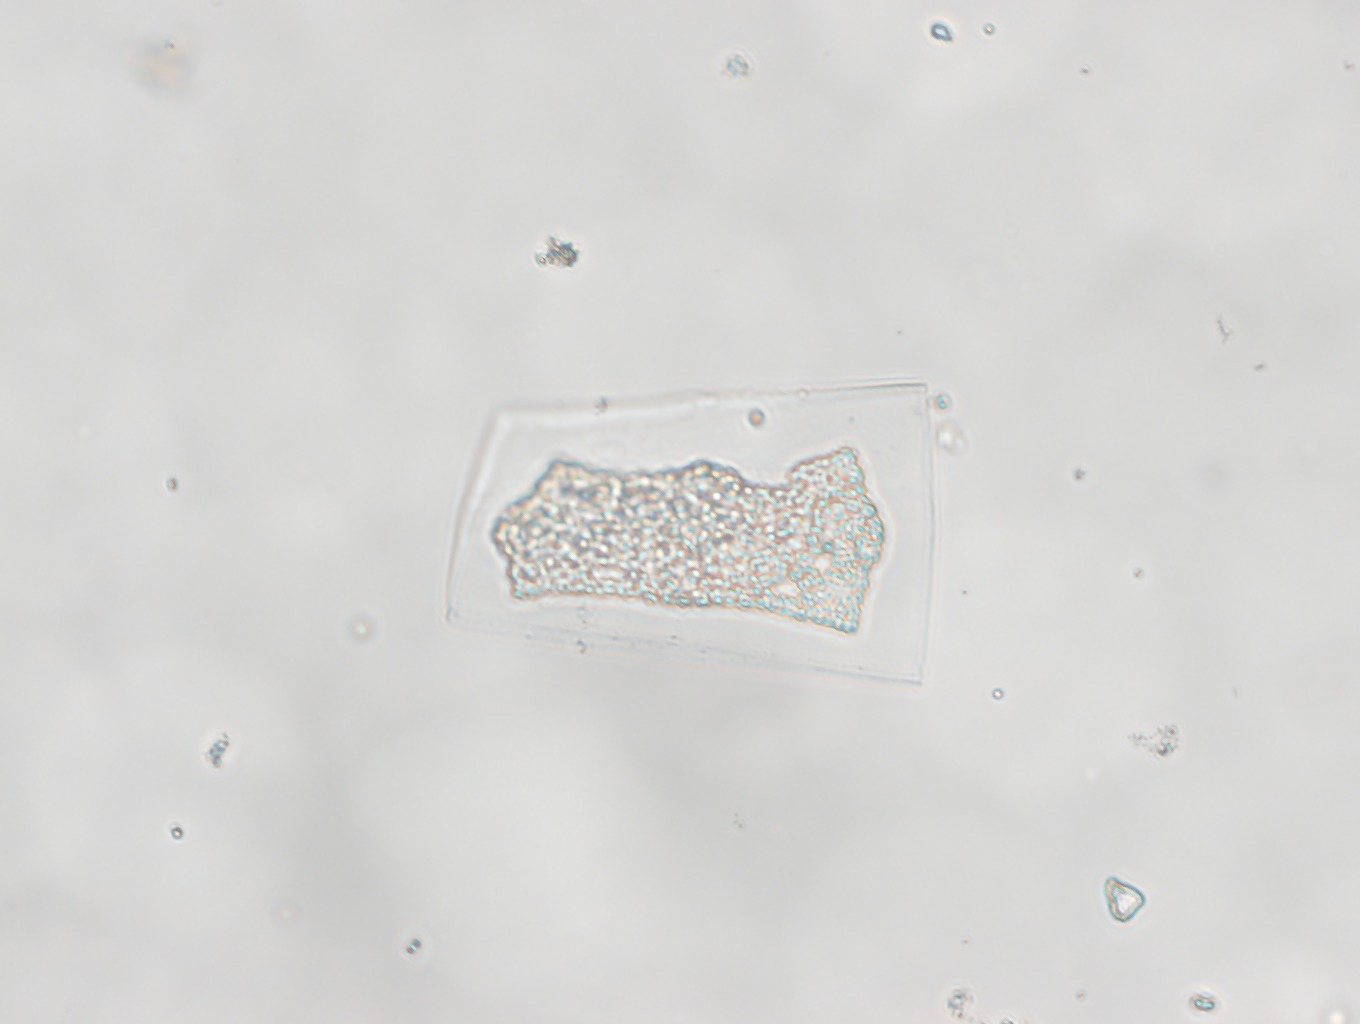helicotheca: (441, 373, 936, 687)
